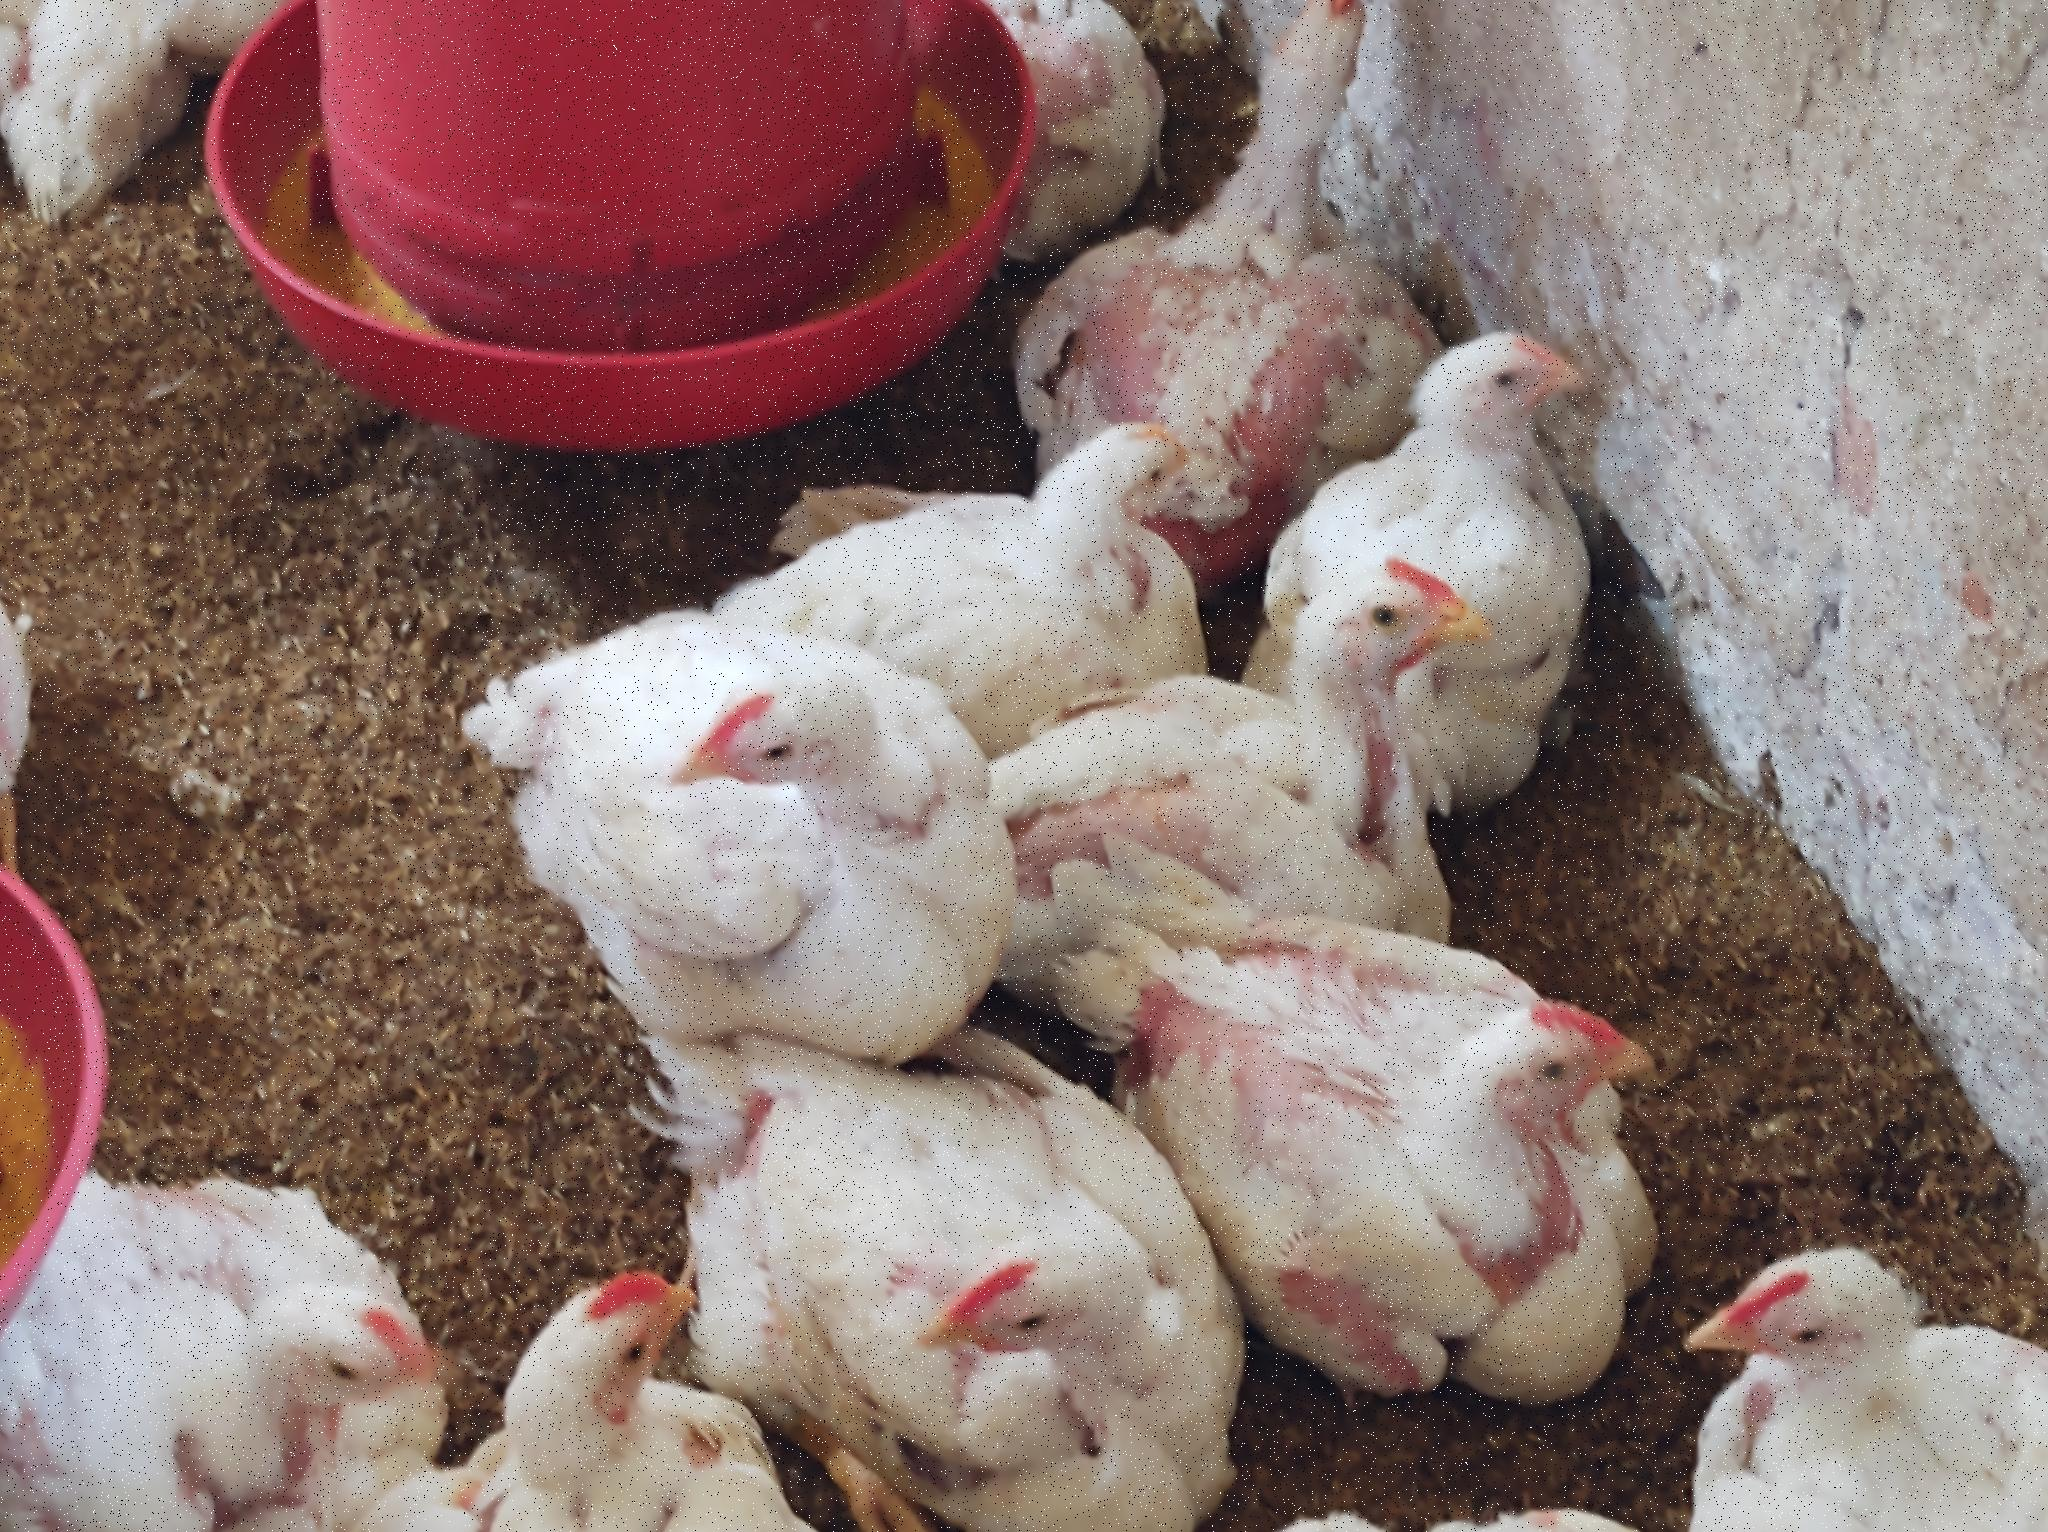Pollos: (738, 1086, 1269, 1532), (555, 636, 1052, 1056), (1250, 956, 1734, 1369), (10, 1167, 455, 1532), (1129, 2, 1478, 328), (1684, 1221, 2048, 1532), (487, 1255, 800, 1532), (936, 401, 1263, 620), (1401, 298, 1649, 534)
